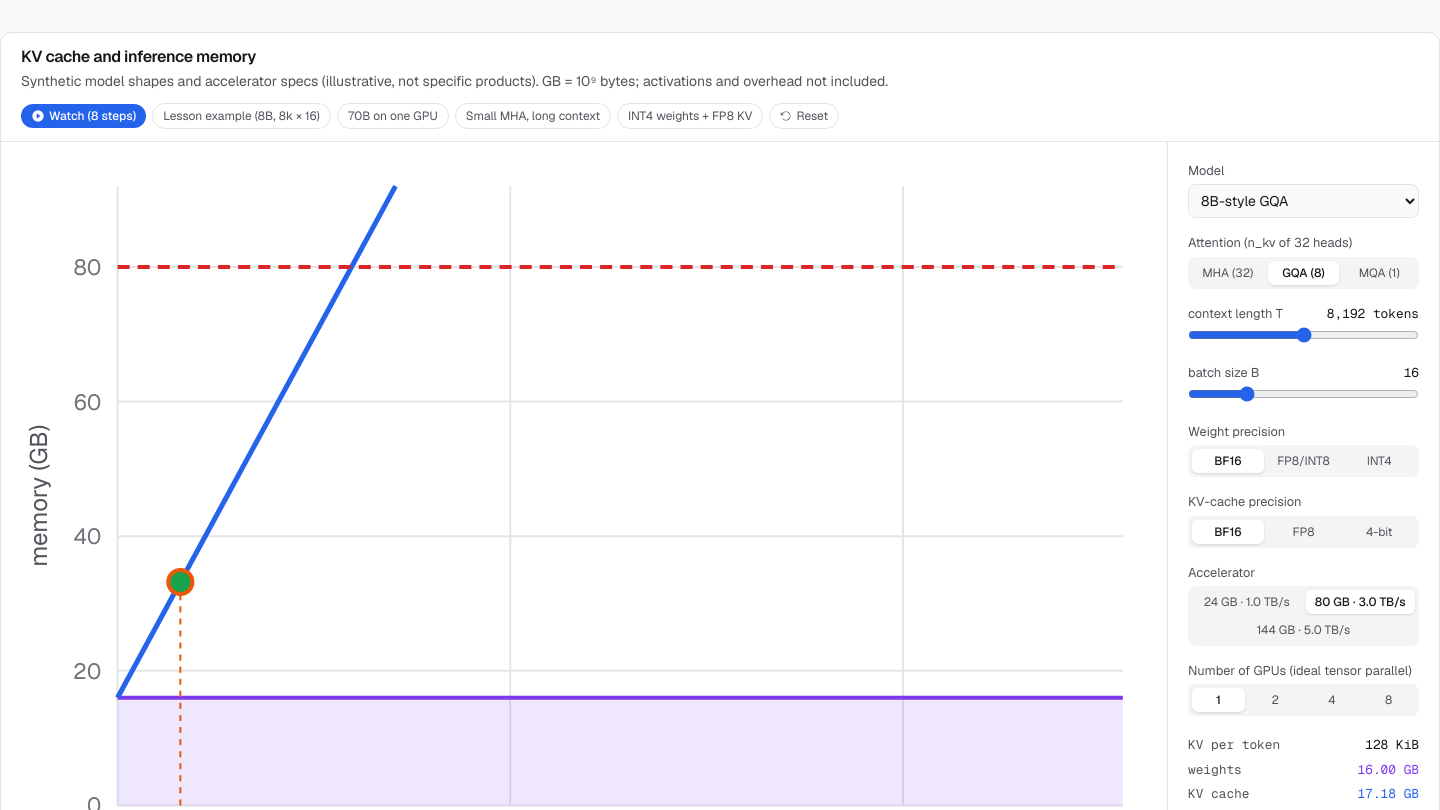
Scenario: kv-cache lab renders › has buttons and reacts to a preset
The width and height of the screenshot is (1440, 810).
Expected: the button "Watch (8 steps)" is shown, [21,104,146,128]
Click the button "70B on one GPU" at {"x": 393, "y": 116}, box [337,103,449,129]
(page scrolled)
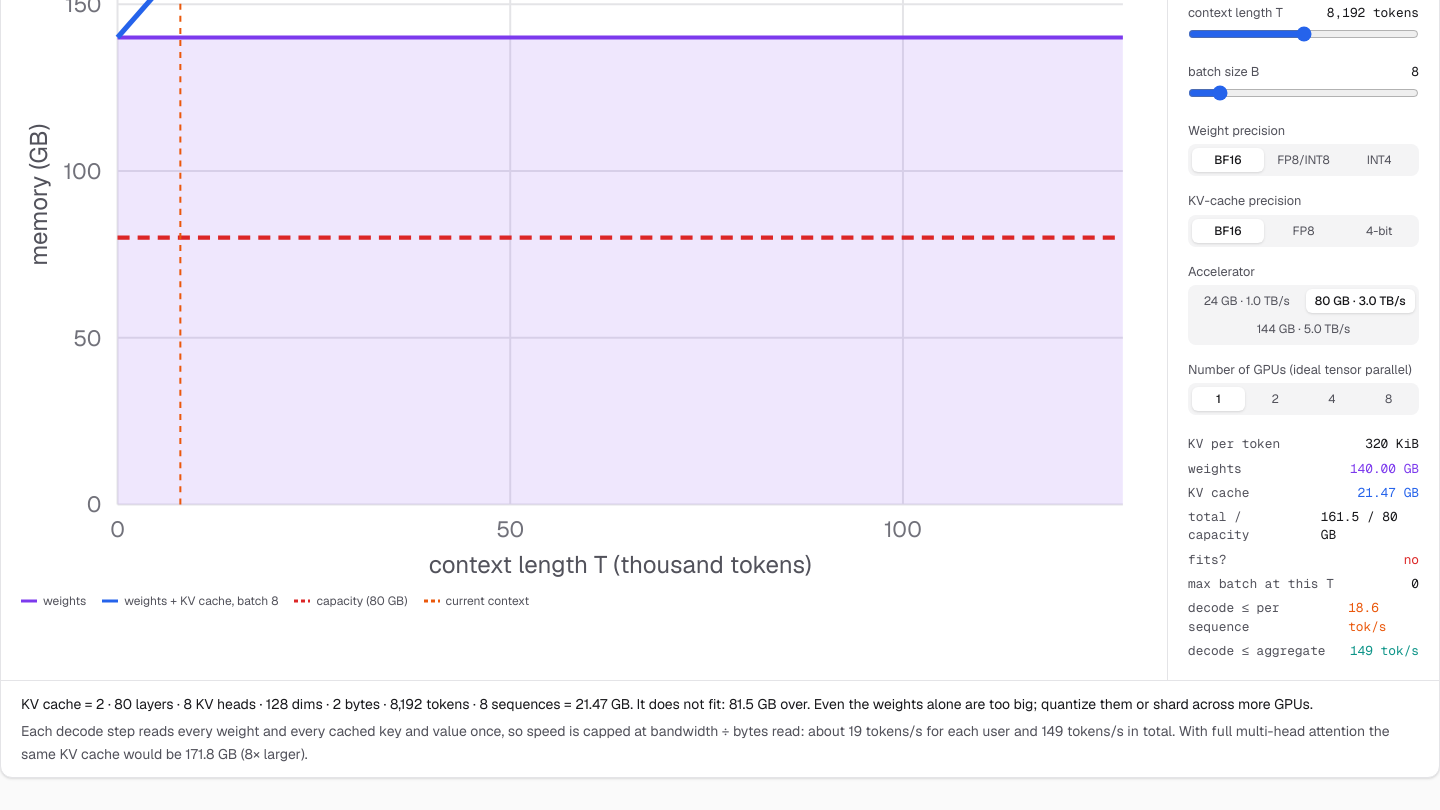
Result: the text "It does not fit" is shown at [637,695,1313,713]
